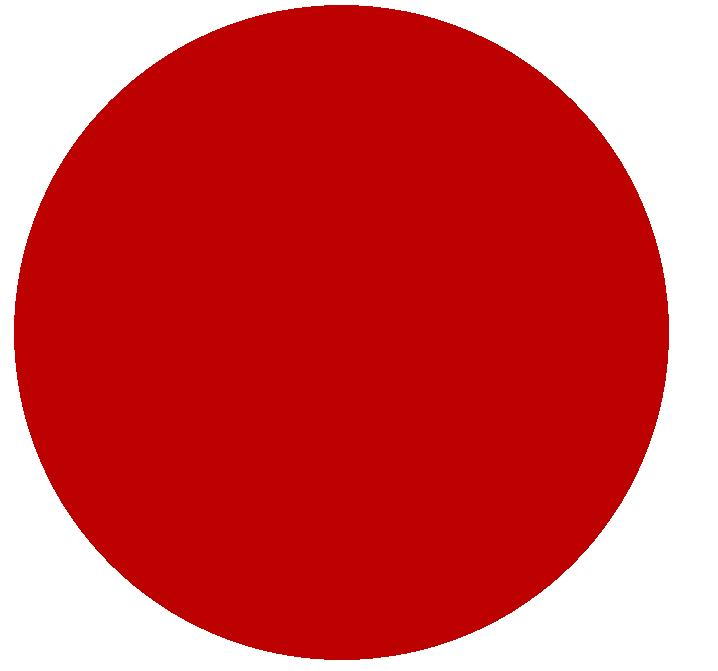red_circle: (2, 0, 718, 671)
